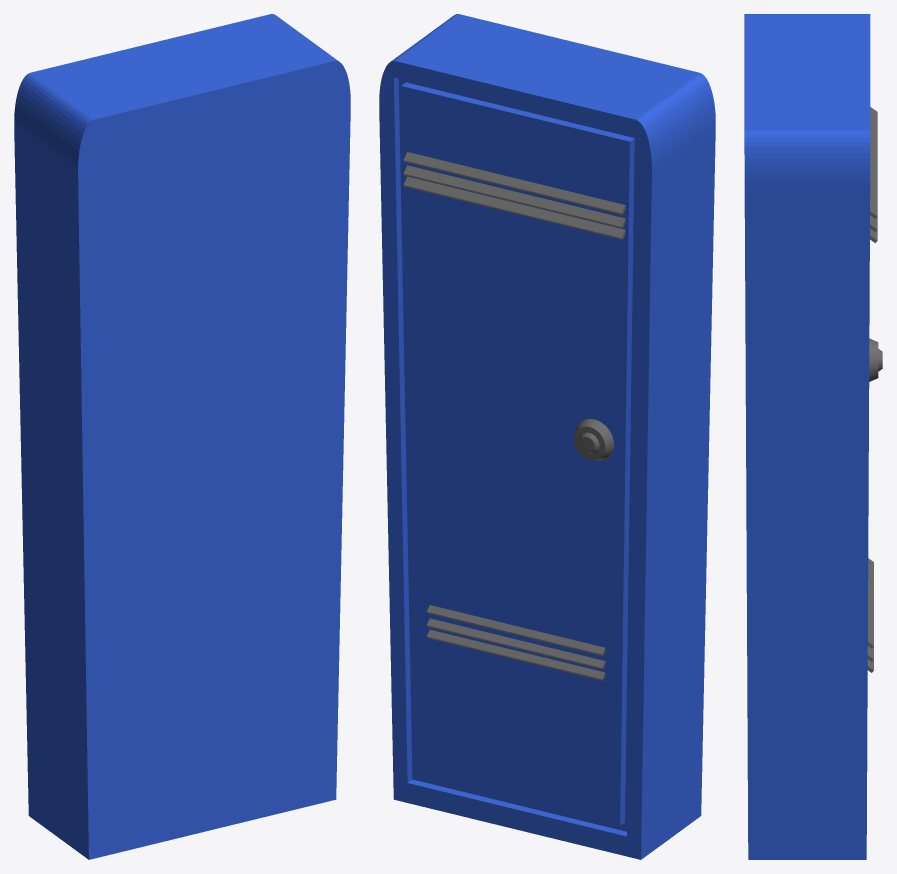
Rendered from armoir fermé3.fbx.
3 views of the same model, side by side, from view 1: azimuth 30°, elevation 25°; view 2: azimuth 150°, elevation 25°; view 3: azimuth 270°, elevation 25° (orthographic).
Parts seen in each view (by area): view 1: Cube.032; view 2: Cube.032; view 3: Cube.032.
Part boxes in pixels (x1,y1,x2,y2): Cube.032: [14, 14, 350, 859]; Cube.032: [379, 14, 715, 859]; Cube.032: [744, 14, 882, 859].
Bounding box in the file's own units: 752 × 1952 × 336.
